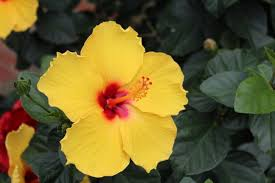hybiscus: (40, 21, 189, 177)
